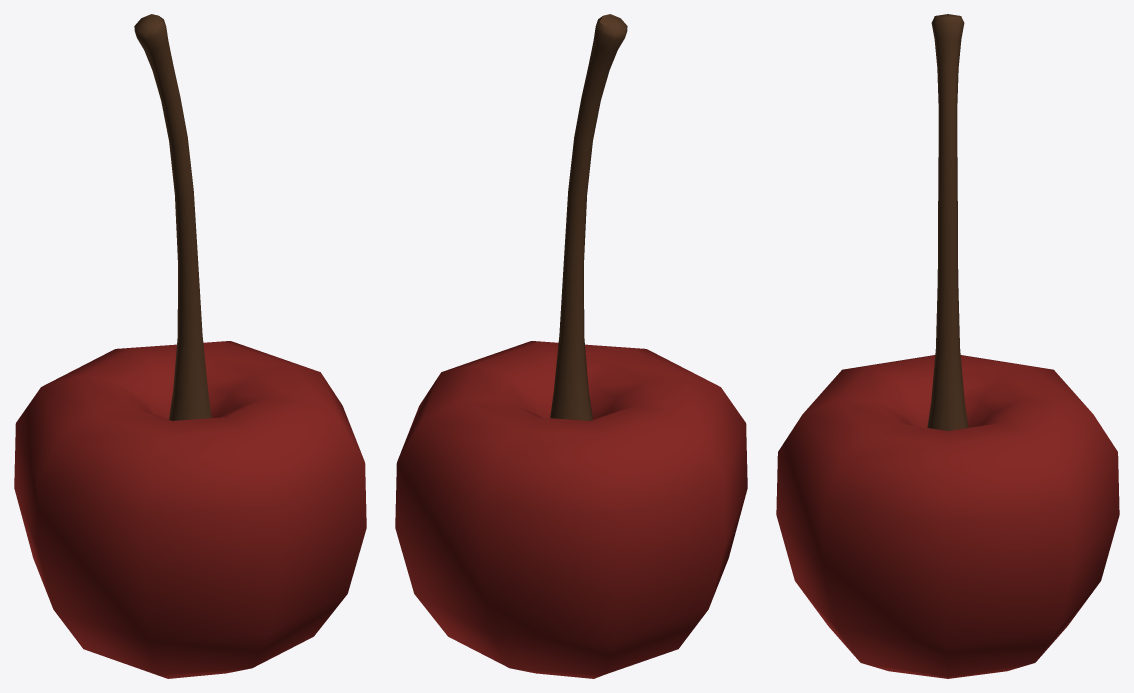
File: Cherry-Single.fbx
3 renders of one model, left to right at view 1: azimuth 30°, elevation 25°; view 2: azimuth 150°, elevation 25°; view 3: azimuth 270°, elevation 25°, orthographic. The views are drawn at different scales.
Visible parts, largest first — view 1: Cherry-Single; view 2: Cherry-Single; view 3: Cherry-Single.
Part boxes in pixels (x1,y1,x2,y2): Cherry-Single: (14,14,366,678); Cherry-Single: (395,14,747,678); Cherry-Single: (776,14,1119,678).
Bounding box in the file's own units: 157 × 316 × 157.
